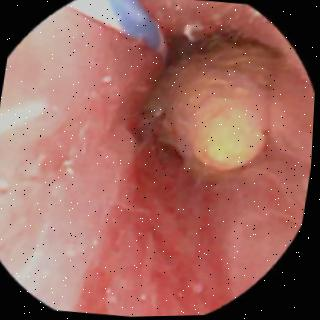stone: (144, 40, 274, 176)
tissue: (0, 12, 310, 317)
